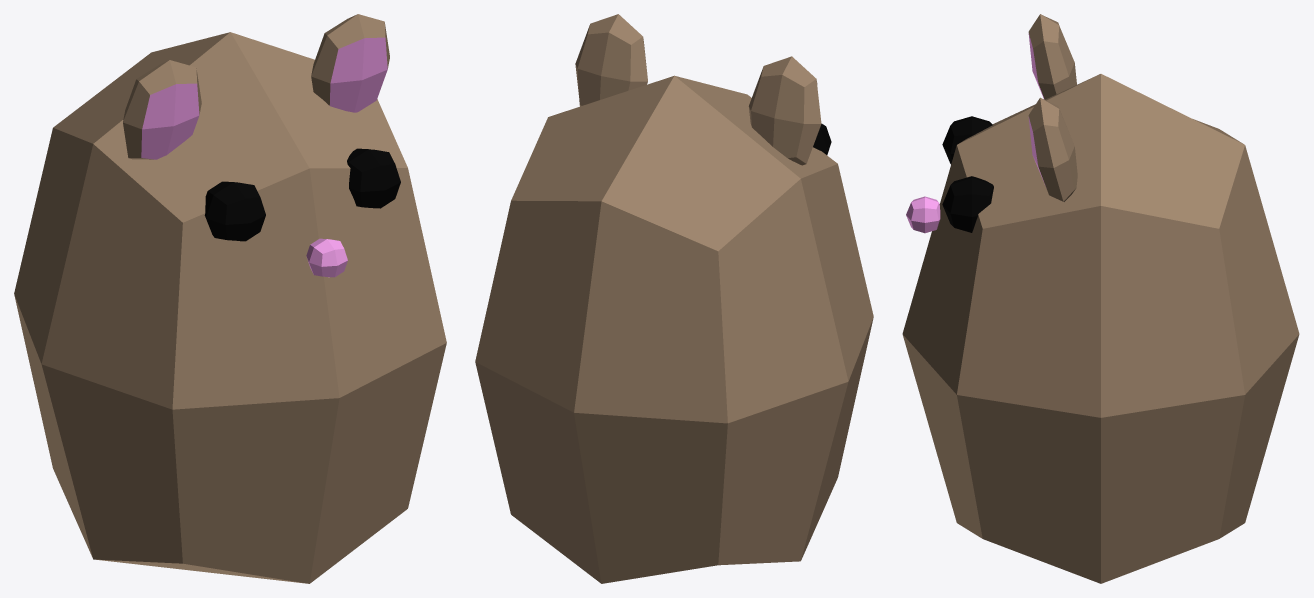
Rendered from lowpolyhamster_01.glb.
3 views of the same model, side by side, from view 1: azimuth 30°, elevation 25°; view 2: azimuth 150°, elevation 25°; view 3: azimuth 270°, elevation 25° (orthographic). The views are drawn at different scales.
Visible parts, largest first — view 1: Cube; view 2: Cube; view 3: Cube.
Boxes of the visible parts, x1,y1,x2,y2 form: Cube: [14, 14, 446, 583]; Cube: [475, 14, 873, 583]; Cube: [902, 14, 1299, 583].
Bounding box in the file's own units: 1.3 × 1.71 × 1.3.
